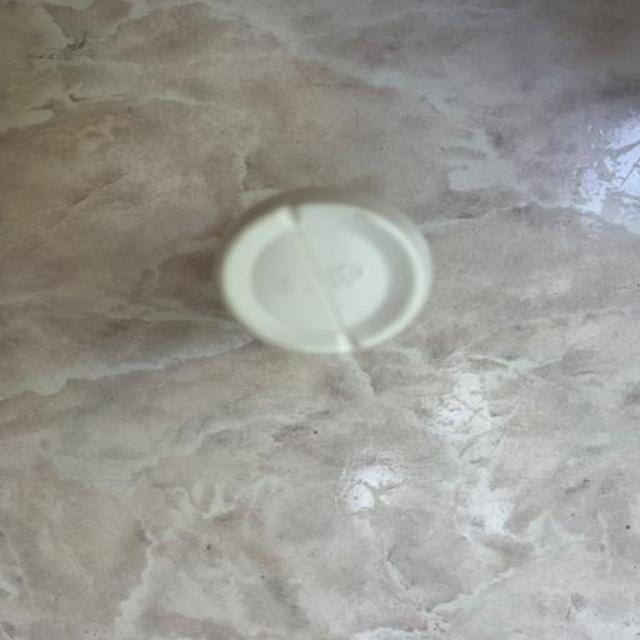HDPE: (200, 151, 472, 376)
